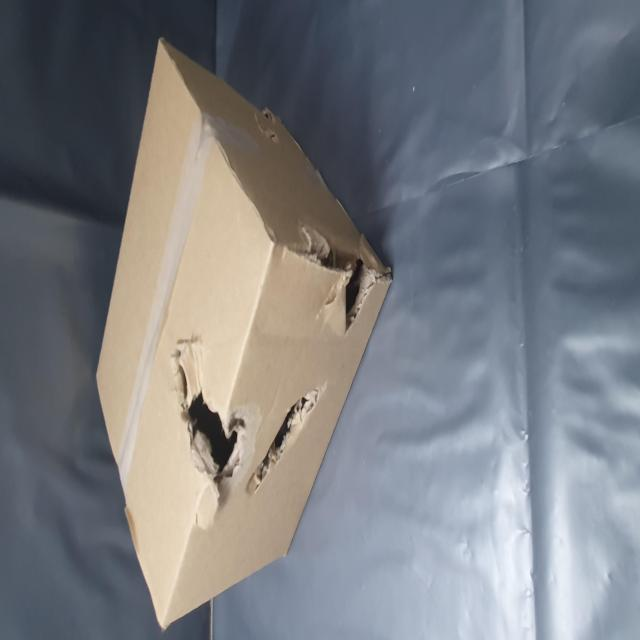damaged: (84, 304, 168, 448), (80, 442, 149, 574), (169, 540, 227, 640)
